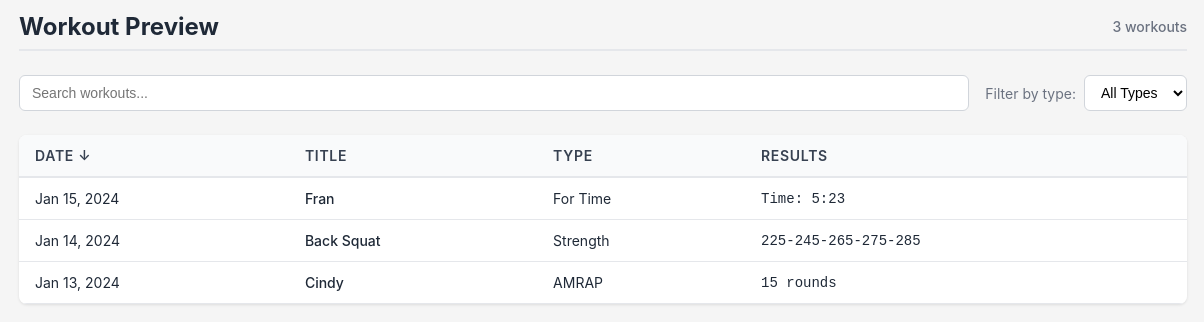
it: ExportPreview › Filtering › should clear search when clear button clicked
Type "Fran" into the field with placeholder "Search workouts...".
click(494, 93); type("Fran")  # box [19,75,969,111]
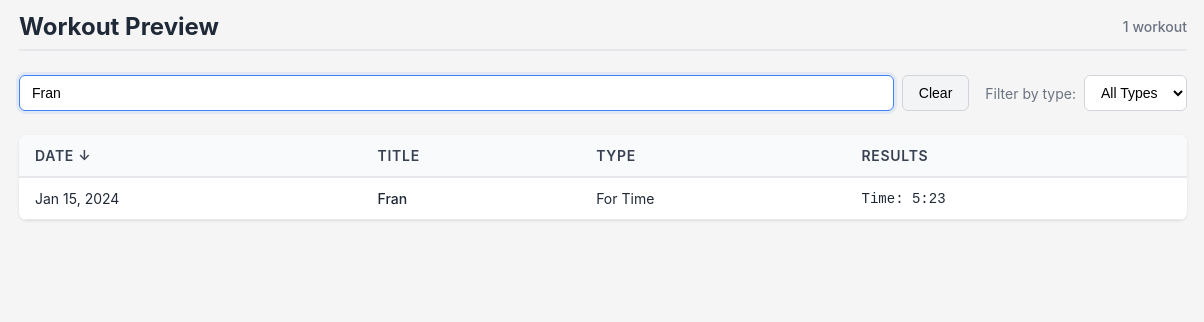
Click the button "Clear".
click(936, 93)  # box [902,75,969,111]
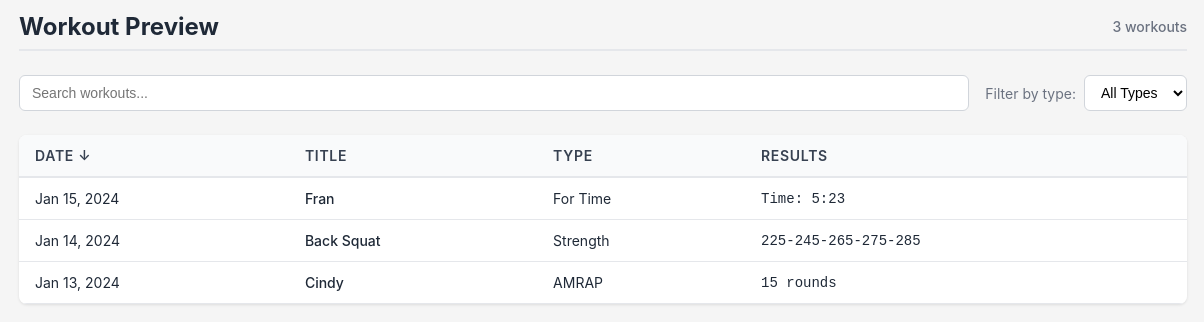
Expected: the field with placeholder "Search workouts..." is empty, [19,75,969,111]
Expected: the text "3 workouts" is shown, [1112,18,1187,35]
